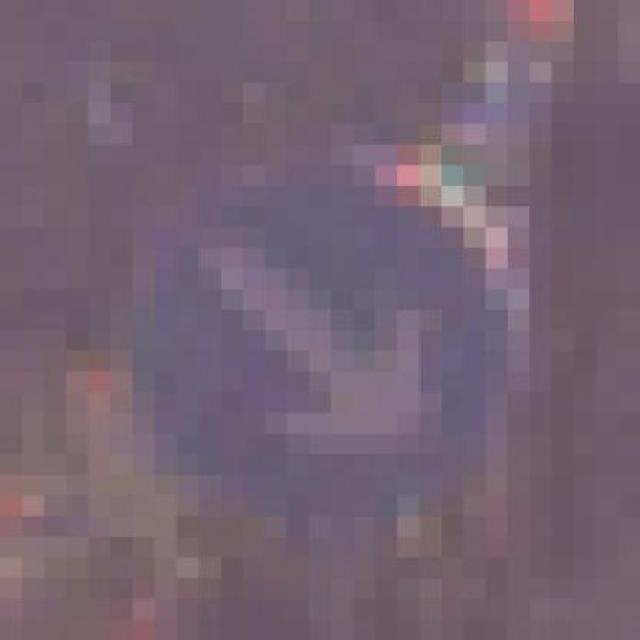Keep-Right: (88, 103, 530, 537)
